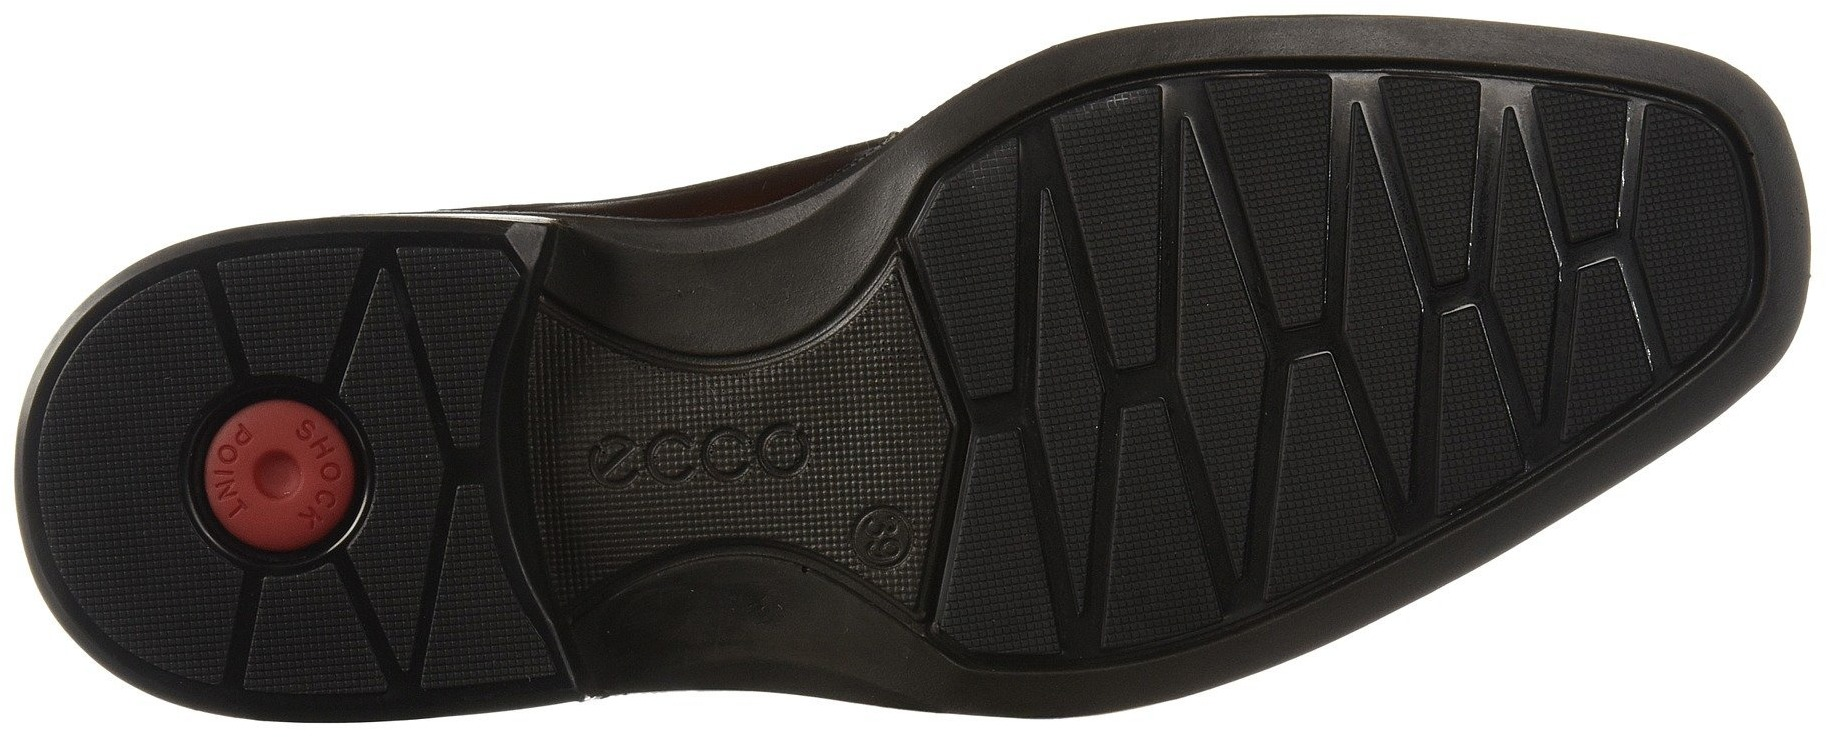circle: (165, 370, 383, 583), (840, 499, 922, 577)
exclude: (571, 550, 924, 725)
other: (43, 437, 176, 554), (230, 269, 360, 373)
text: (581, 336, 835, 567), (858, 513, 910, 571)
triangle: (988, 75, 1300, 412), (1268, 108, 1542, 380), (1521, 126, 1731, 347)
